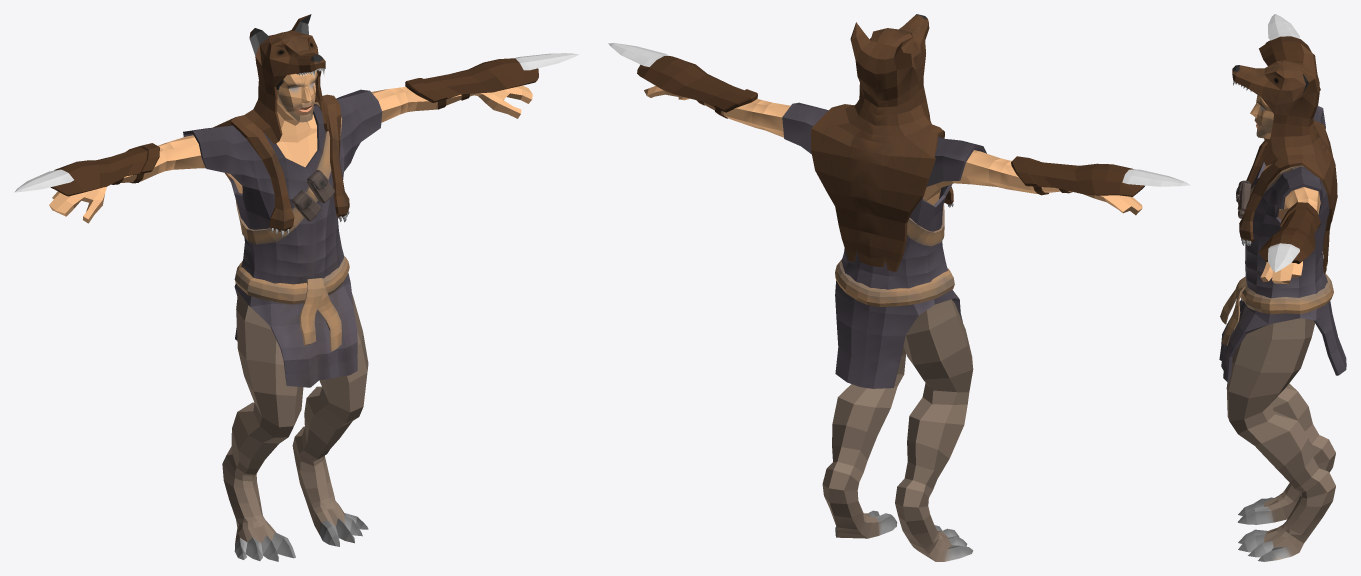
File: MALE_GG_UI_final.fbx
The picture shows the model from 3 angles, left to right: view 1: azimuth 30°, elevation 25°; view 2: azimuth 150°, elevation 25°; view 3: azimuth 270°, elevation 25°; orthographic projection. The views are drawn at different scales.
Parts seen in each view (by area): view 1: GG_male; view 2: GG_male; view 3: GG_male.
Part boxes in pixels (x1=…): GG_male: x1=14, y1=14, x2=578, y2=561; GG_male: x1=608, y1=14, x2=1190, y2=561; GG_male: x1=1219, y1=14, x2=1346, y2=561.
Size of the model in its own units: 435 by 373 by 90.35.
